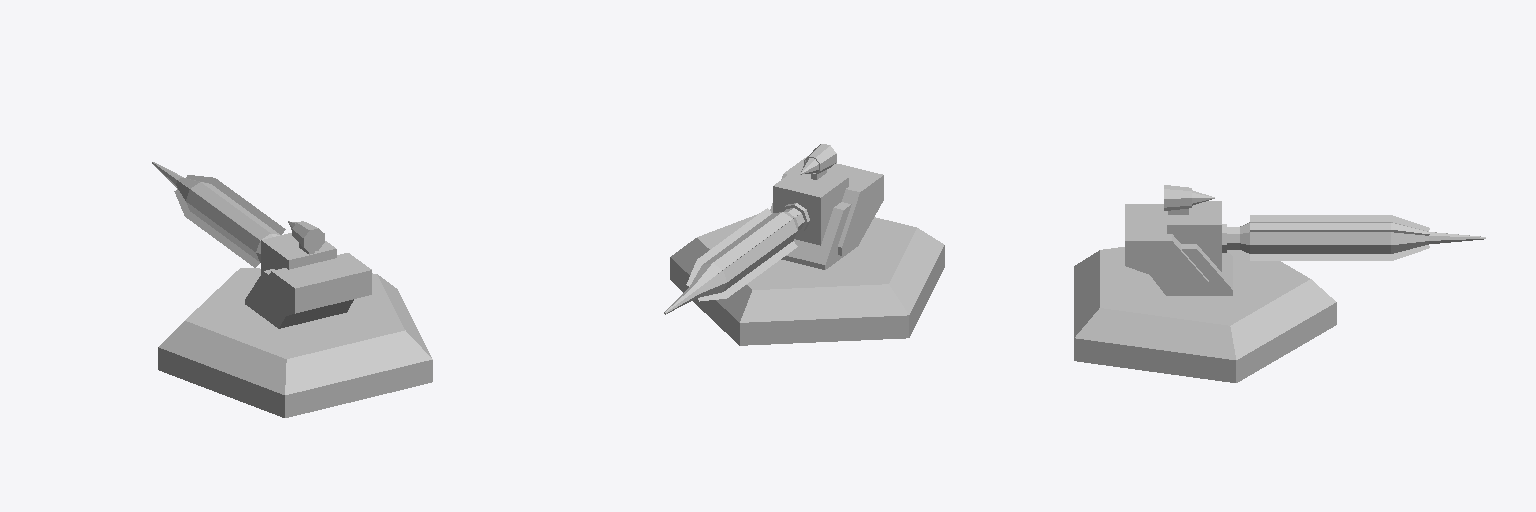
Rendered from Lightning Gun.obj.
3 renders of one model, left to right at view 1: azimuth 30°, elevation 25°; view 2: azimuth 150°, elevation 25°; view 3: azimuth 270°, elevation 25°, orthographic.
Parts seen in each view (by area): view 1: pCylinder3, pCylinder1, pCube4, pCube1, pCube2, pCone1; view 2: pCylinder3, pCylinder1, pCube1, pCube4, pCube2, pCone1; view 3: pCylinder3, pCylinder1, pCube4, pCube1, pCube2, pCone1.
Boxes of the visible parts, box(x1,y1,x2,y2) form: pCylinder3: box(158, 268, 432, 417); pCylinder1: box(152, 162, 285, 267); pCube4: box(253, 253, 371, 320); pCube1: box(261, 233, 336, 273); pCube2: box(245, 269, 353, 328); pCone1: box(288, 221, 324, 251); pCylinder3: box(670, 213, 944, 345); pCylinder1: box(664, 203, 809, 314); pCube1: box(773, 166, 848, 245); pCube4: box(781, 156, 883, 255); pCube2: box(770, 202, 859, 269); pCone1: box(800, 144, 836, 174); pCylinder3: box(1074, 247, 1336, 382); pCylinder1: box(1222, 215, 1485, 260); pCube4: box(1125, 204, 1208, 290); pCube1: box(1167, 201, 1221, 271); pCube2: box(1150, 244, 1232, 295); pCone1: box(1164, 185, 1214, 210).
Size of the model in its own units: 4.99 by 2.76 by 7.44.